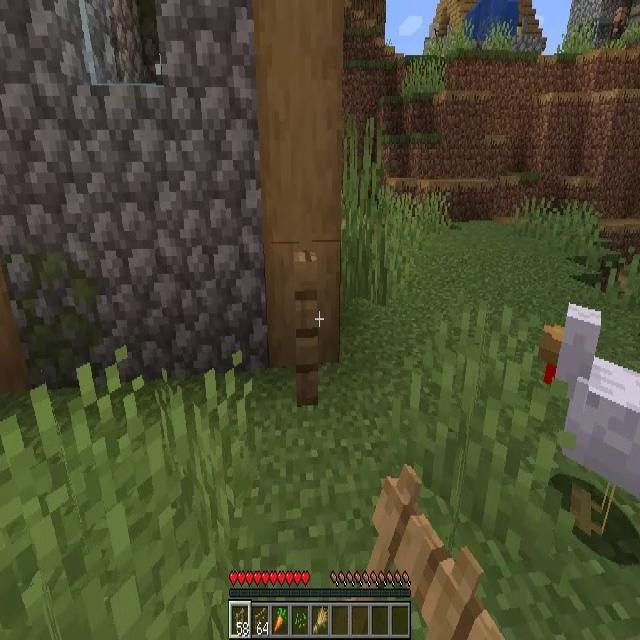duck: (535, 304, 640, 536)
